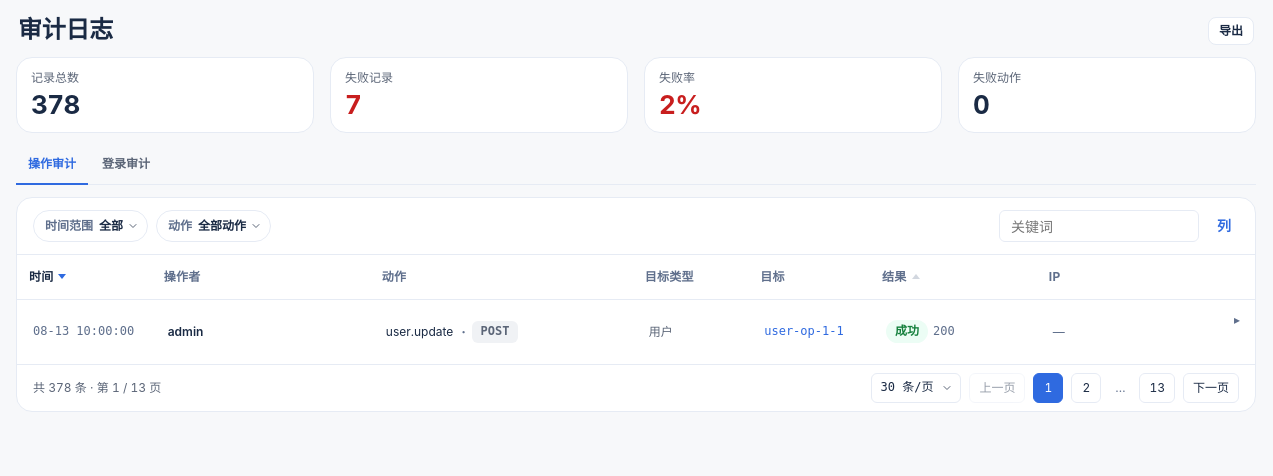
AuditLogs 传统分页（方案 A） › 翻页失败：清空上一页行；导出只剩运营中心数据导出页一个入口
The width and height of the screenshot is (1273, 476).
Step 1. Click the button "下一页" → click(1211, 388), box [1183, 373, 1239, 403]
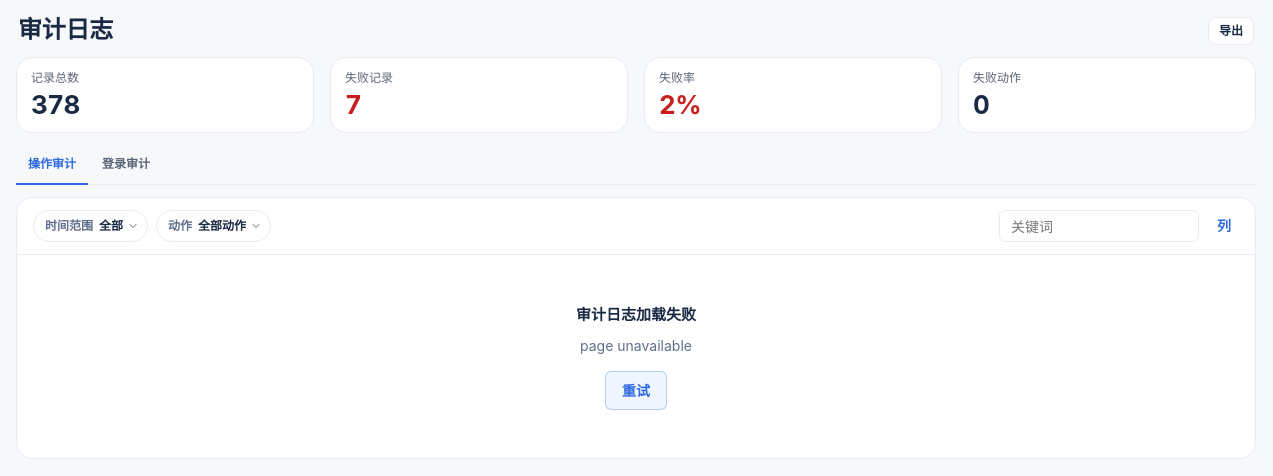
Expected: the button "导出" is shown, [1208, 17, 1254, 45]
Result: the text "审计日志加载失败" is shown at [576, 303, 696, 328]
Result: the text "user-op-1-1" is gone
